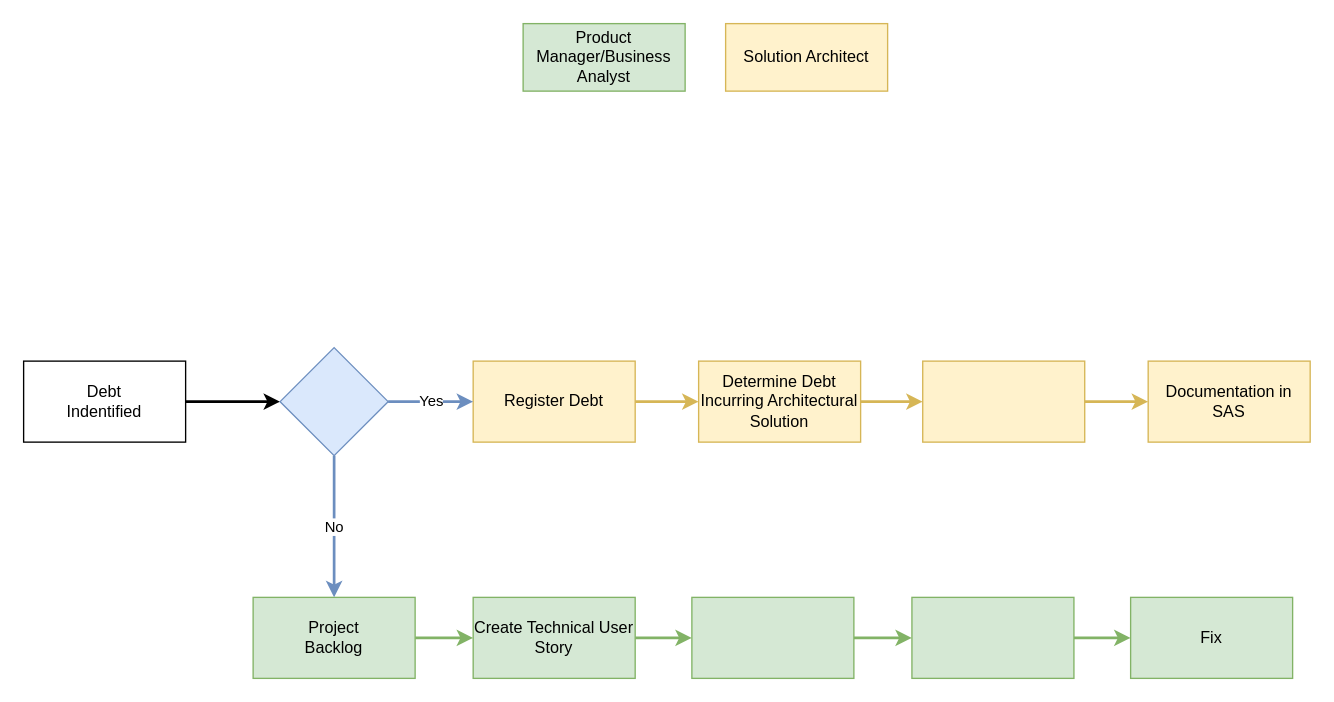
The diagram is 1334 pixels wide and 702 high, and some of its shapes have lost their labels. The centre of each missing label's shape, as x and y in pixels:
"Analysis of Solution" belongs at pixel 1003 401.
"Backlog" belongs at pixel 772 637.
"Intential" belongs at pixel 333 401.
"Plan" belongs at pixel 992 637.
